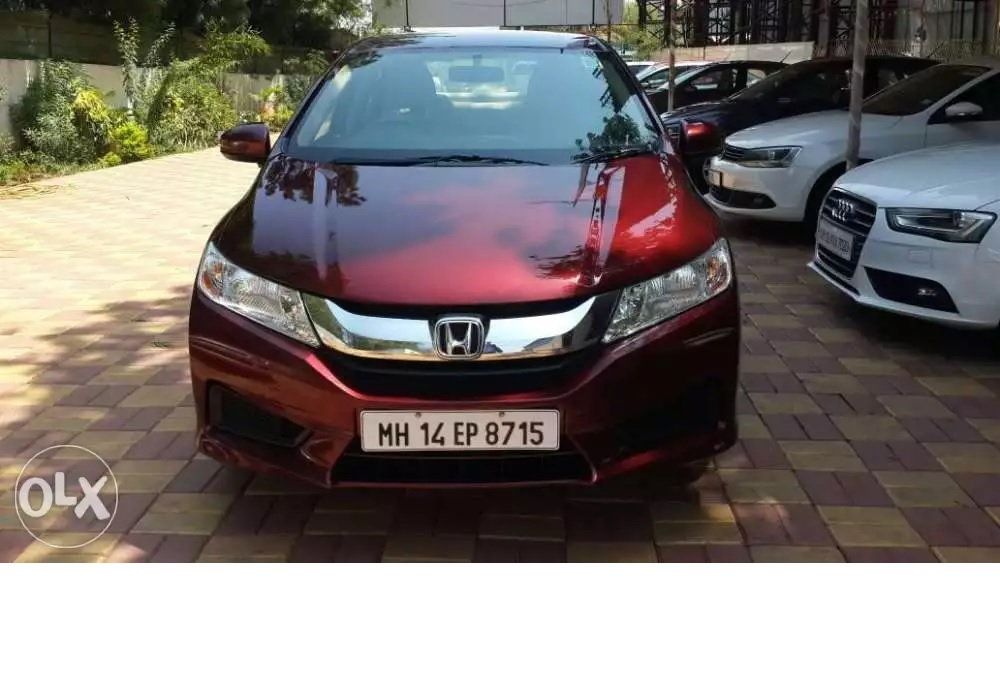licenseplate: (357, 407, 567, 455)
